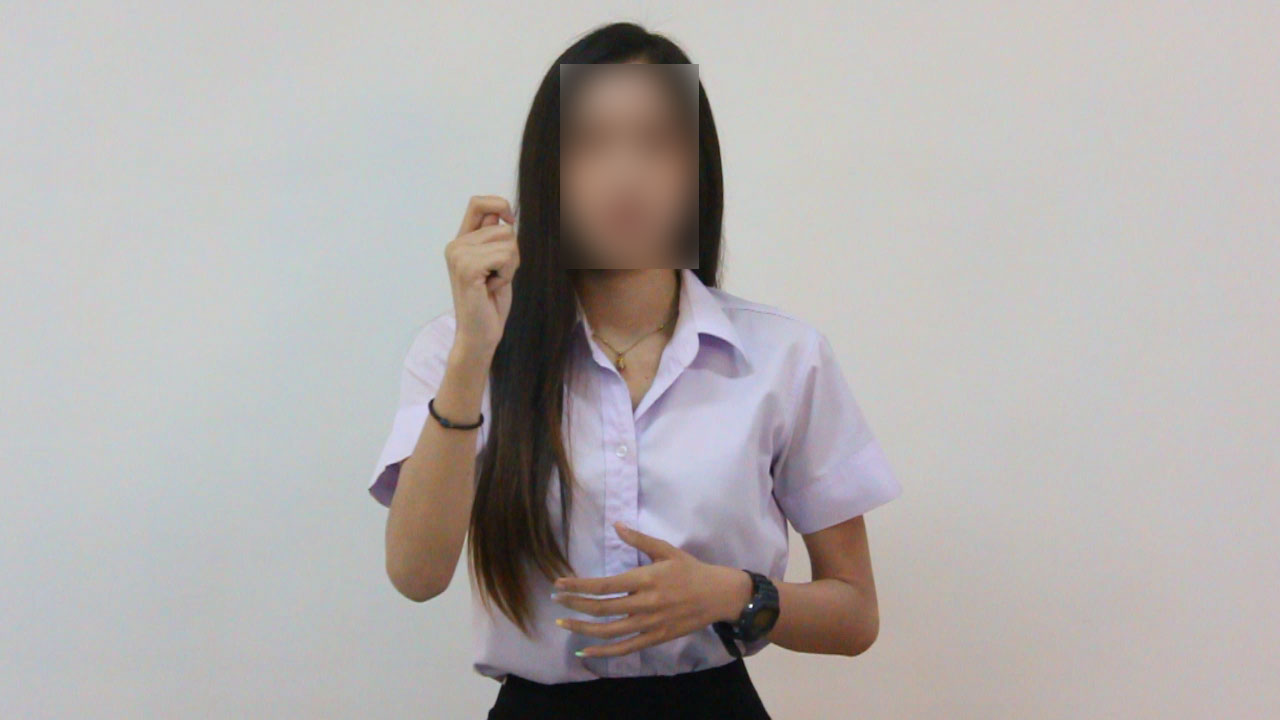or: (434, 192, 533, 363)
